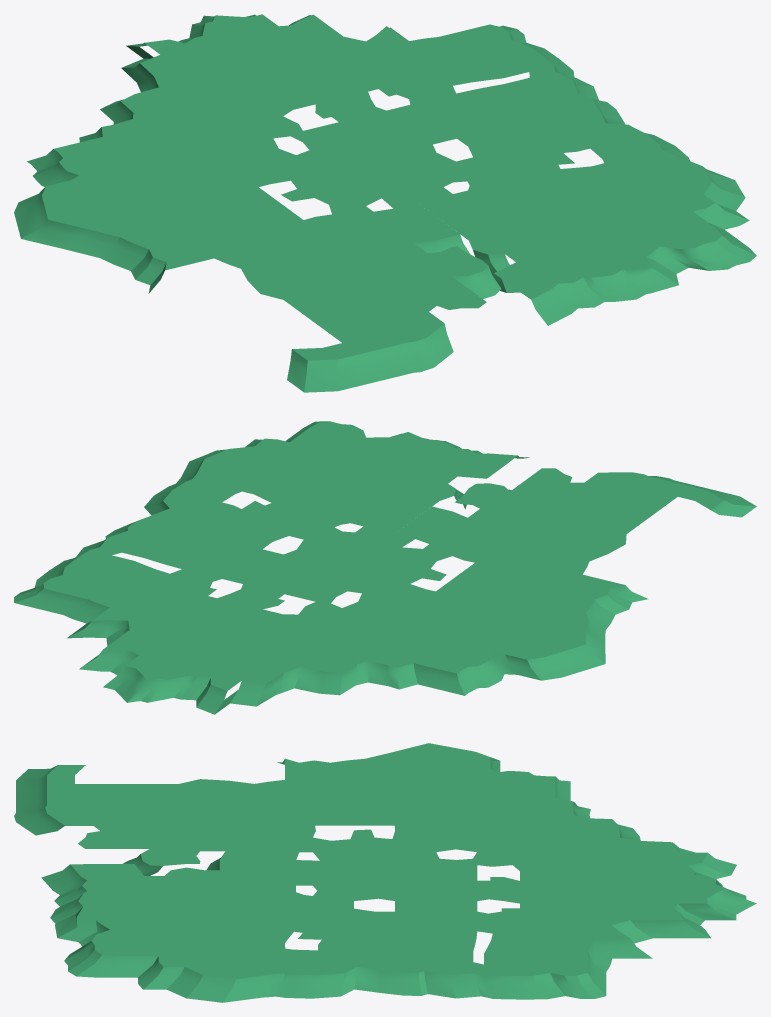
Rendered from TerrainTop.fbx.
The picture shows the model from 3 angles, top to bottom: view 1: azimuth 30°, elevation 25°; view 2: azimuth 150°, elevation 25°; view 3: azimuth 270°, elevation 25°; orthographic projection. The views are drawn at different scales.
Visible parts, largest first — view 1: TerrainTopper1; view 2: TerrainTopper1; view 3: TerrainTopper1.
Boxes of the visible parts, bbox=[...] form: TerrainTopper1: bbox=[14, 14, 756, 392]; TerrainTopper1: bbox=[14, 421, 756, 714]; TerrainTopper1: bbox=[14, 743, 756, 1002].
Size of the model in its own units: 9586 by 421 by 11687.
